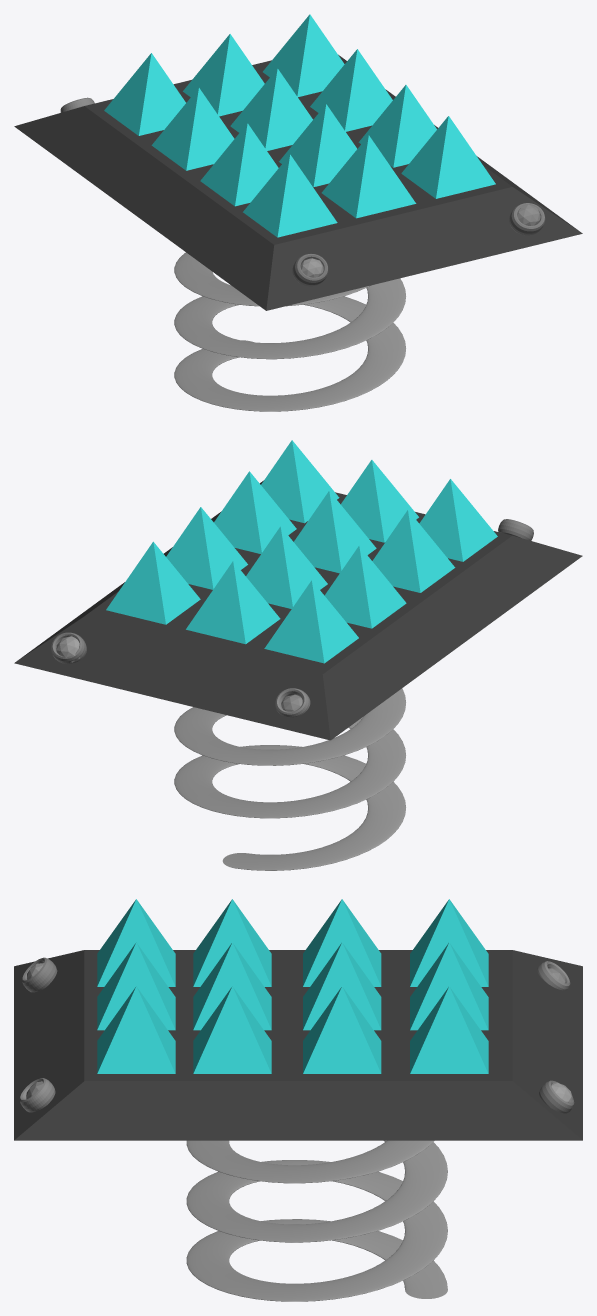
The model's file is spikes.fbx.
3 renders of one model, top to bottom at view 1: azimuth 30°, elevation 25°; view 2: azimuth 150°, elevation 25°; view 3: azimuth 270°, elevation 25°, orthographic. The views are drawn at different scales.
Parts seen in each view (by area): view 1: Cube, Circle, Cube.002, Cube.005, Cube.008, Cube.014, Cube.009, Cube.011, Cube.003, Cube.010, Cube.004, Cube.001 (+4 smaller); view 2: Cube, Circle, Cube.004, Cube.010, Cube.009, Cube.001, Cube.014, Cube.007, Cube.006, Cube.011, Cube.003, Cube.002 (+4 smaller); view 3: Cube, Circle, Cube.007, Cube.008, Cube.010, Cube.011, Cube.005, Cube.006, Cube.004, Cube.003, Cube.009, Cube.014 (+6 smaller).
Part boxes in pixels (x1=…): Cube: x1=14, y1=54, x2=582, y2=310; Circle: x1=174, y1=252, x2=405, y2=411; Cube.002: x1=243, y1=154, x2=337, y2=237; Cube.005: x1=321, y1=135, x2=416, y2=218; Cube.008: x1=401, y1=116, x2=495, y2=198; Cube.014: x1=151, y1=88, x2=234, y2=170; Cube.009: x1=104, y1=53, x2=185, y2=135; Cube.011: x1=310, y1=49, x2=392, y2=131; Cube.003: x1=230, y1=68, x2=312, y2=150; Cube.010: x1=263, y1=14, x2=344, y2=96; Cube.004: x1=183, y1=34, x2=264, y2=116; Cube.001: x1=200, y1=123, x2=278, y2=206; Cube: x1=14, y1=480, x2=582, y2=740; Circle: x1=174, y1=688, x2=405, y2=870; Cube.004: x1=186, y1=561, x2=280, y2=644; Cube.010: x1=106, y1=541, x2=200, y2=624; Cube.009: x1=264, y1=580, x2=358, y2=663; Cube.001: x1=372, y1=510, x2=455, y2=592; Cube.014: x1=324, y1=545, x2=406, y2=628; Cube.007: x1=214, y1=471, x2=296, y2=553; Cube.006: x1=294, y1=491, x2=376, y2=573; Cube.011: x1=166, y1=507, x2=247, y2=589; Cube.003: x1=246, y1=526, x2=327, y2=608; Cube.002: x1=419, y1=479, x2=497, y2=561; Cube: x1=14, y1=950, x2=582, y2=1140; Circle: x1=186, y1=1140, x2=447, y2=1301; Cube.007: x1=193, y1=986, x2=271, y2=1073; Cube.008: x1=97, y1=986, x2=175, y2=1073; Cube.010: x1=410, y1=986, x2=488, y2=1073; Cube.011: x1=303, y1=986, x2=381, y2=1073; Cube.005: x1=97, y1=942, x2=175, y2=1030; Cube.006: x1=193, y1=942, x2=271, y2=1030; Cube.004: x1=410, y1=942, x2=488, y2=1030; Cube.003: x1=303, y1=942, x2=381, y2=1030; Cube.009: x1=410, y1=899, x2=488, y2=986; Cube.014: x1=303, y1=899, x2=381, y2=986.
Size of the model in its own units: 316 by 293 by 435.
